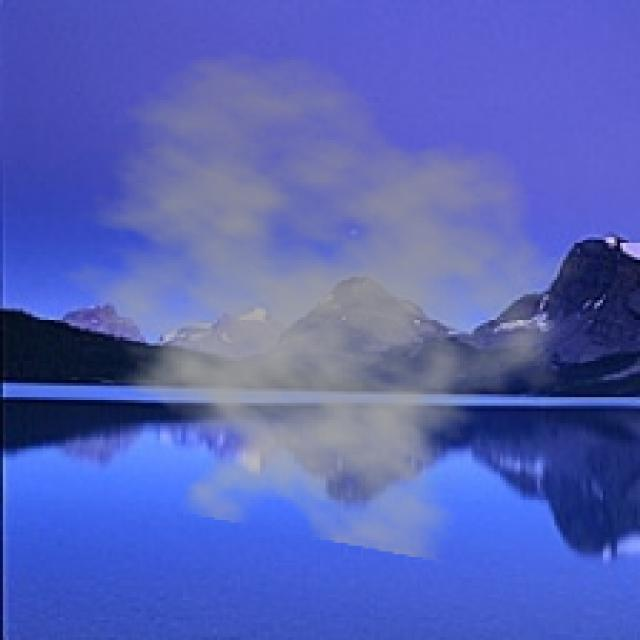Smoke: (40, 48, 586, 563)
